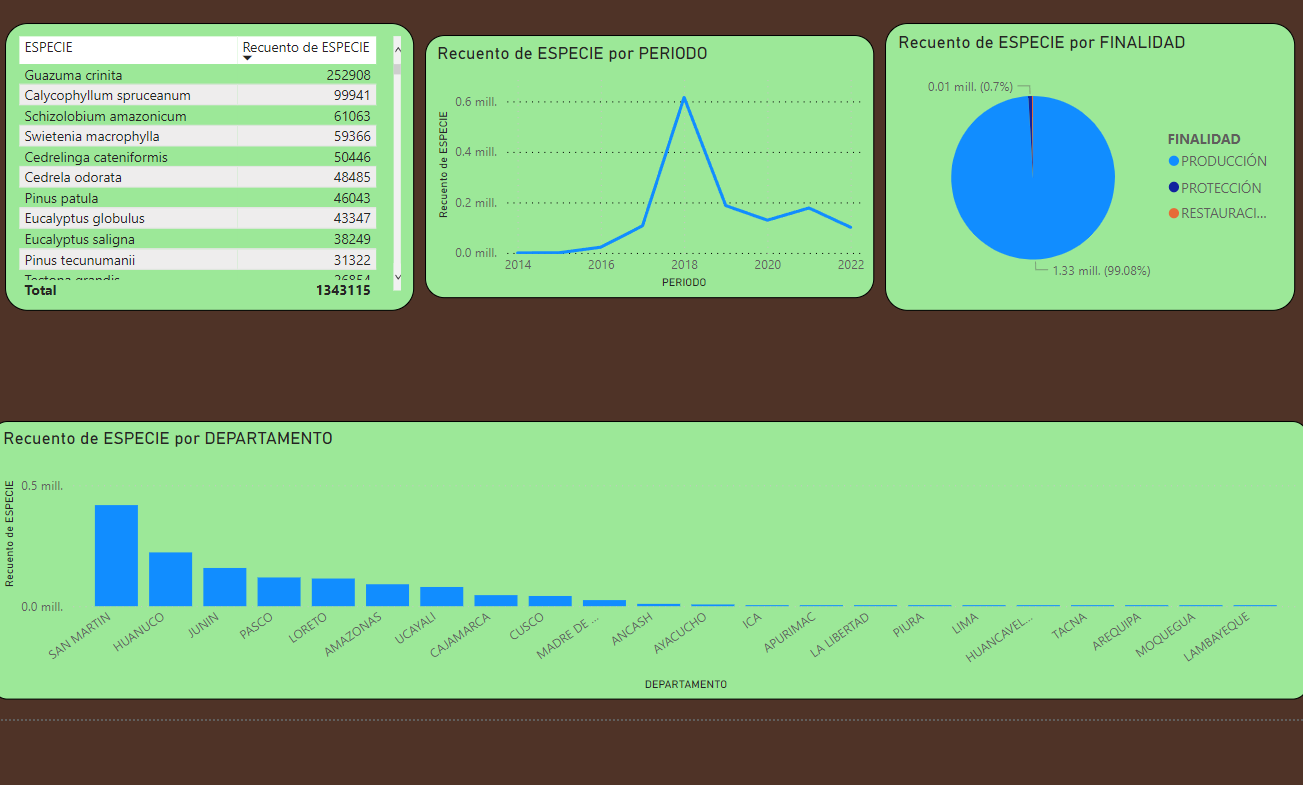

The page's visual inventory and layout, read from the dashboard file:
{"tool":"powerbi","page":{"name":"Página 1","canvas":[1280,720],"ordinal":0},"visuals":[{"type":"tableEx","fields":{"Values":["arboles arbol.ESPECIE","CountNonNull(arboles arbol.ESPECIE)"]},"box":[12.6,42.8,397.8,280.1],"z":0},{"type":"lineChart","fields":{"Category":["arboles arbol.PERIODO"],"Y":["CountNonNull(arboles arbol.ESPECIE)"]},"box":[421.2,54.5,436.7,255.8],"z":1000},{"type":"pieChart","fields":{"Category":["arboles arbol.FINALIDAD"],"Y":["CountNonNull(arboles arbol.ESPECIE)"]},"box":[868.6,42.8,398.8,280.1],"z":2000},{"type":"clusteredColumnChart","fields":{"Category":["arboles arbol.DEPARTAMENTO"],"Y":["CountNonNull(arboles arbol.ESPECIE)"]},"box":[0,430,1280.4,271.3],"z":3000}]}

Visuals, with their boxes in screenshot pixels (x1, y1, x2, y2):
tableEx - arboles arbol.ESPECIE x CountNonNull(arboles arbol.ESPECIE): pyautogui.locateOnScreen(16, 33, 415, 314)
lineChart - arboles arbol.PERIODO x CountNonNull(arboles arbol.ESPECIE): pyautogui.locateOnScreen(426, 45, 865, 301)
pieChart - arboles arbol.FINALIDAD x CountNonNull(arboles arbol.ESPECIE): pyautogui.locateOnScreen(875, 33, 1276, 314)
clusteredColumnChart - arboles arbol.DEPARTAMENTO x CountNonNull(arboles arbol.ESPECIE): pyautogui.locateOnScreen(3, 421, 1289, 694)
